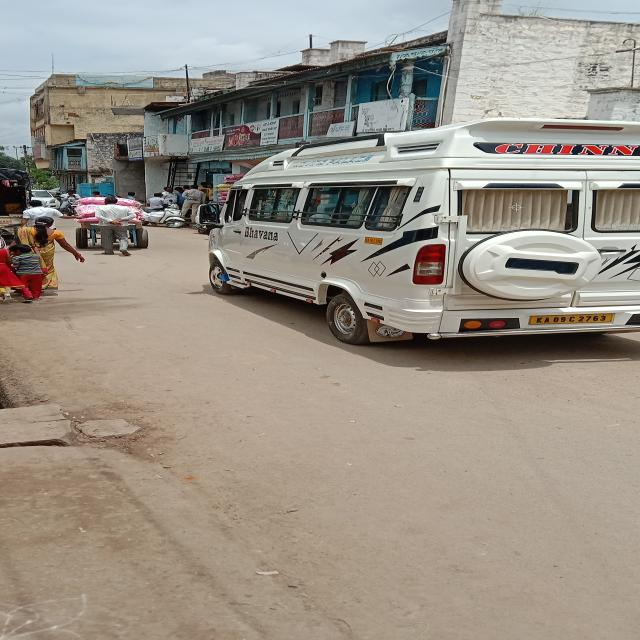Number_Plate_Detected: (526, 312, 620, 327)
